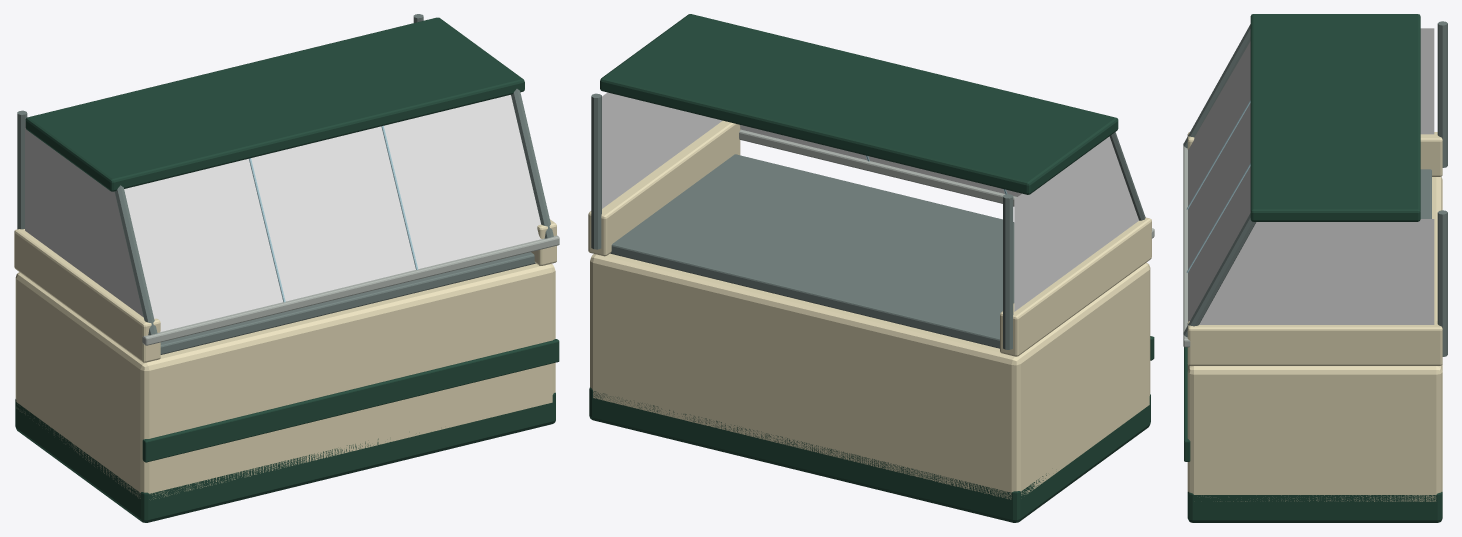
Rendered from chilled_counter.fbx.
3 renders of one model, left to right at view 1: azimuth 30°, elevation 25°; view 2: azimuth 150°, elevation 25°; view 3: azimuth 270°, elevation 25°, orthographic. The views are drawn at different scales.
Visible parts, largest first — view 1: chilled_counter; view 2: chilled_counter; view 3: chilled_counter.
Boxes of the visible parts, box(x1,y1,x2,y2) form: chilled_counter: box(14, 14, 559, 522); chilled_counter: box(588, 14, 1154, 522); chilled_counter: box(1183, 14, 1447, 522).
Size of the model in its own units: 110 by 81.6 by 62.27.
